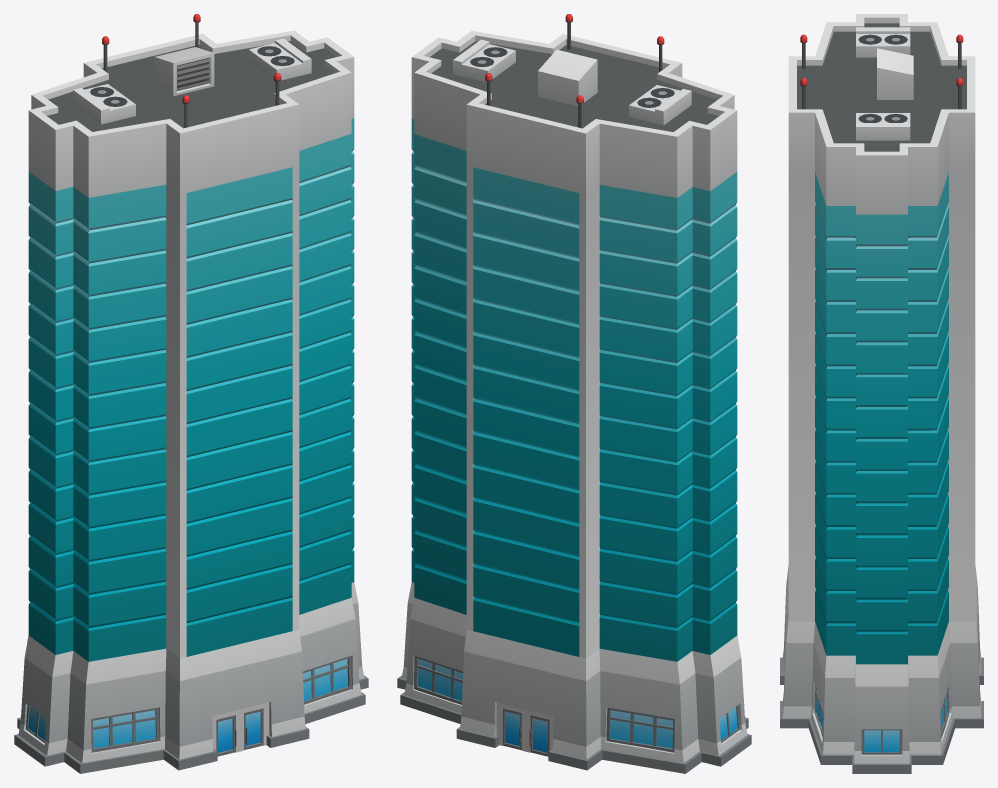
File: business_center_003.glb
3 renders of one model, left to right at view 1: azimuth 30°, elevation 25°; view 2: azimuth 150°, elevation 25°; view 3: azimuth 270°, elevation 25°, orthographic. The views are drawn at different scales.
Visible parts, largest first — view 1: business_center_003; view 2: business_center_003; view 3: business_center_003.
Part boxes in pixels (box(x1,y1,x2,y2)): business_center_003: box(14, 14, 368, 773); business_center_003: box(397, 14, 751, 773); business_center_003: box(780, 14, 983, 773).
Size of the model in its own units: 19.84 by 38.76 by 11.17.
Materials: 3 (3 with a texture image).
